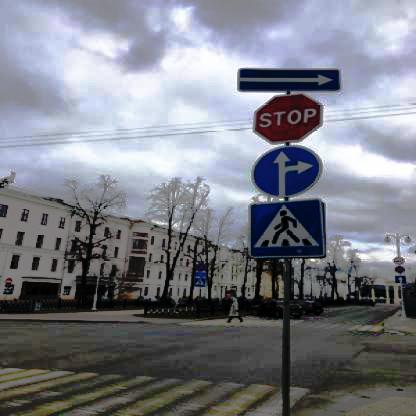Stop Sign: (248, 89, 326, 144)
